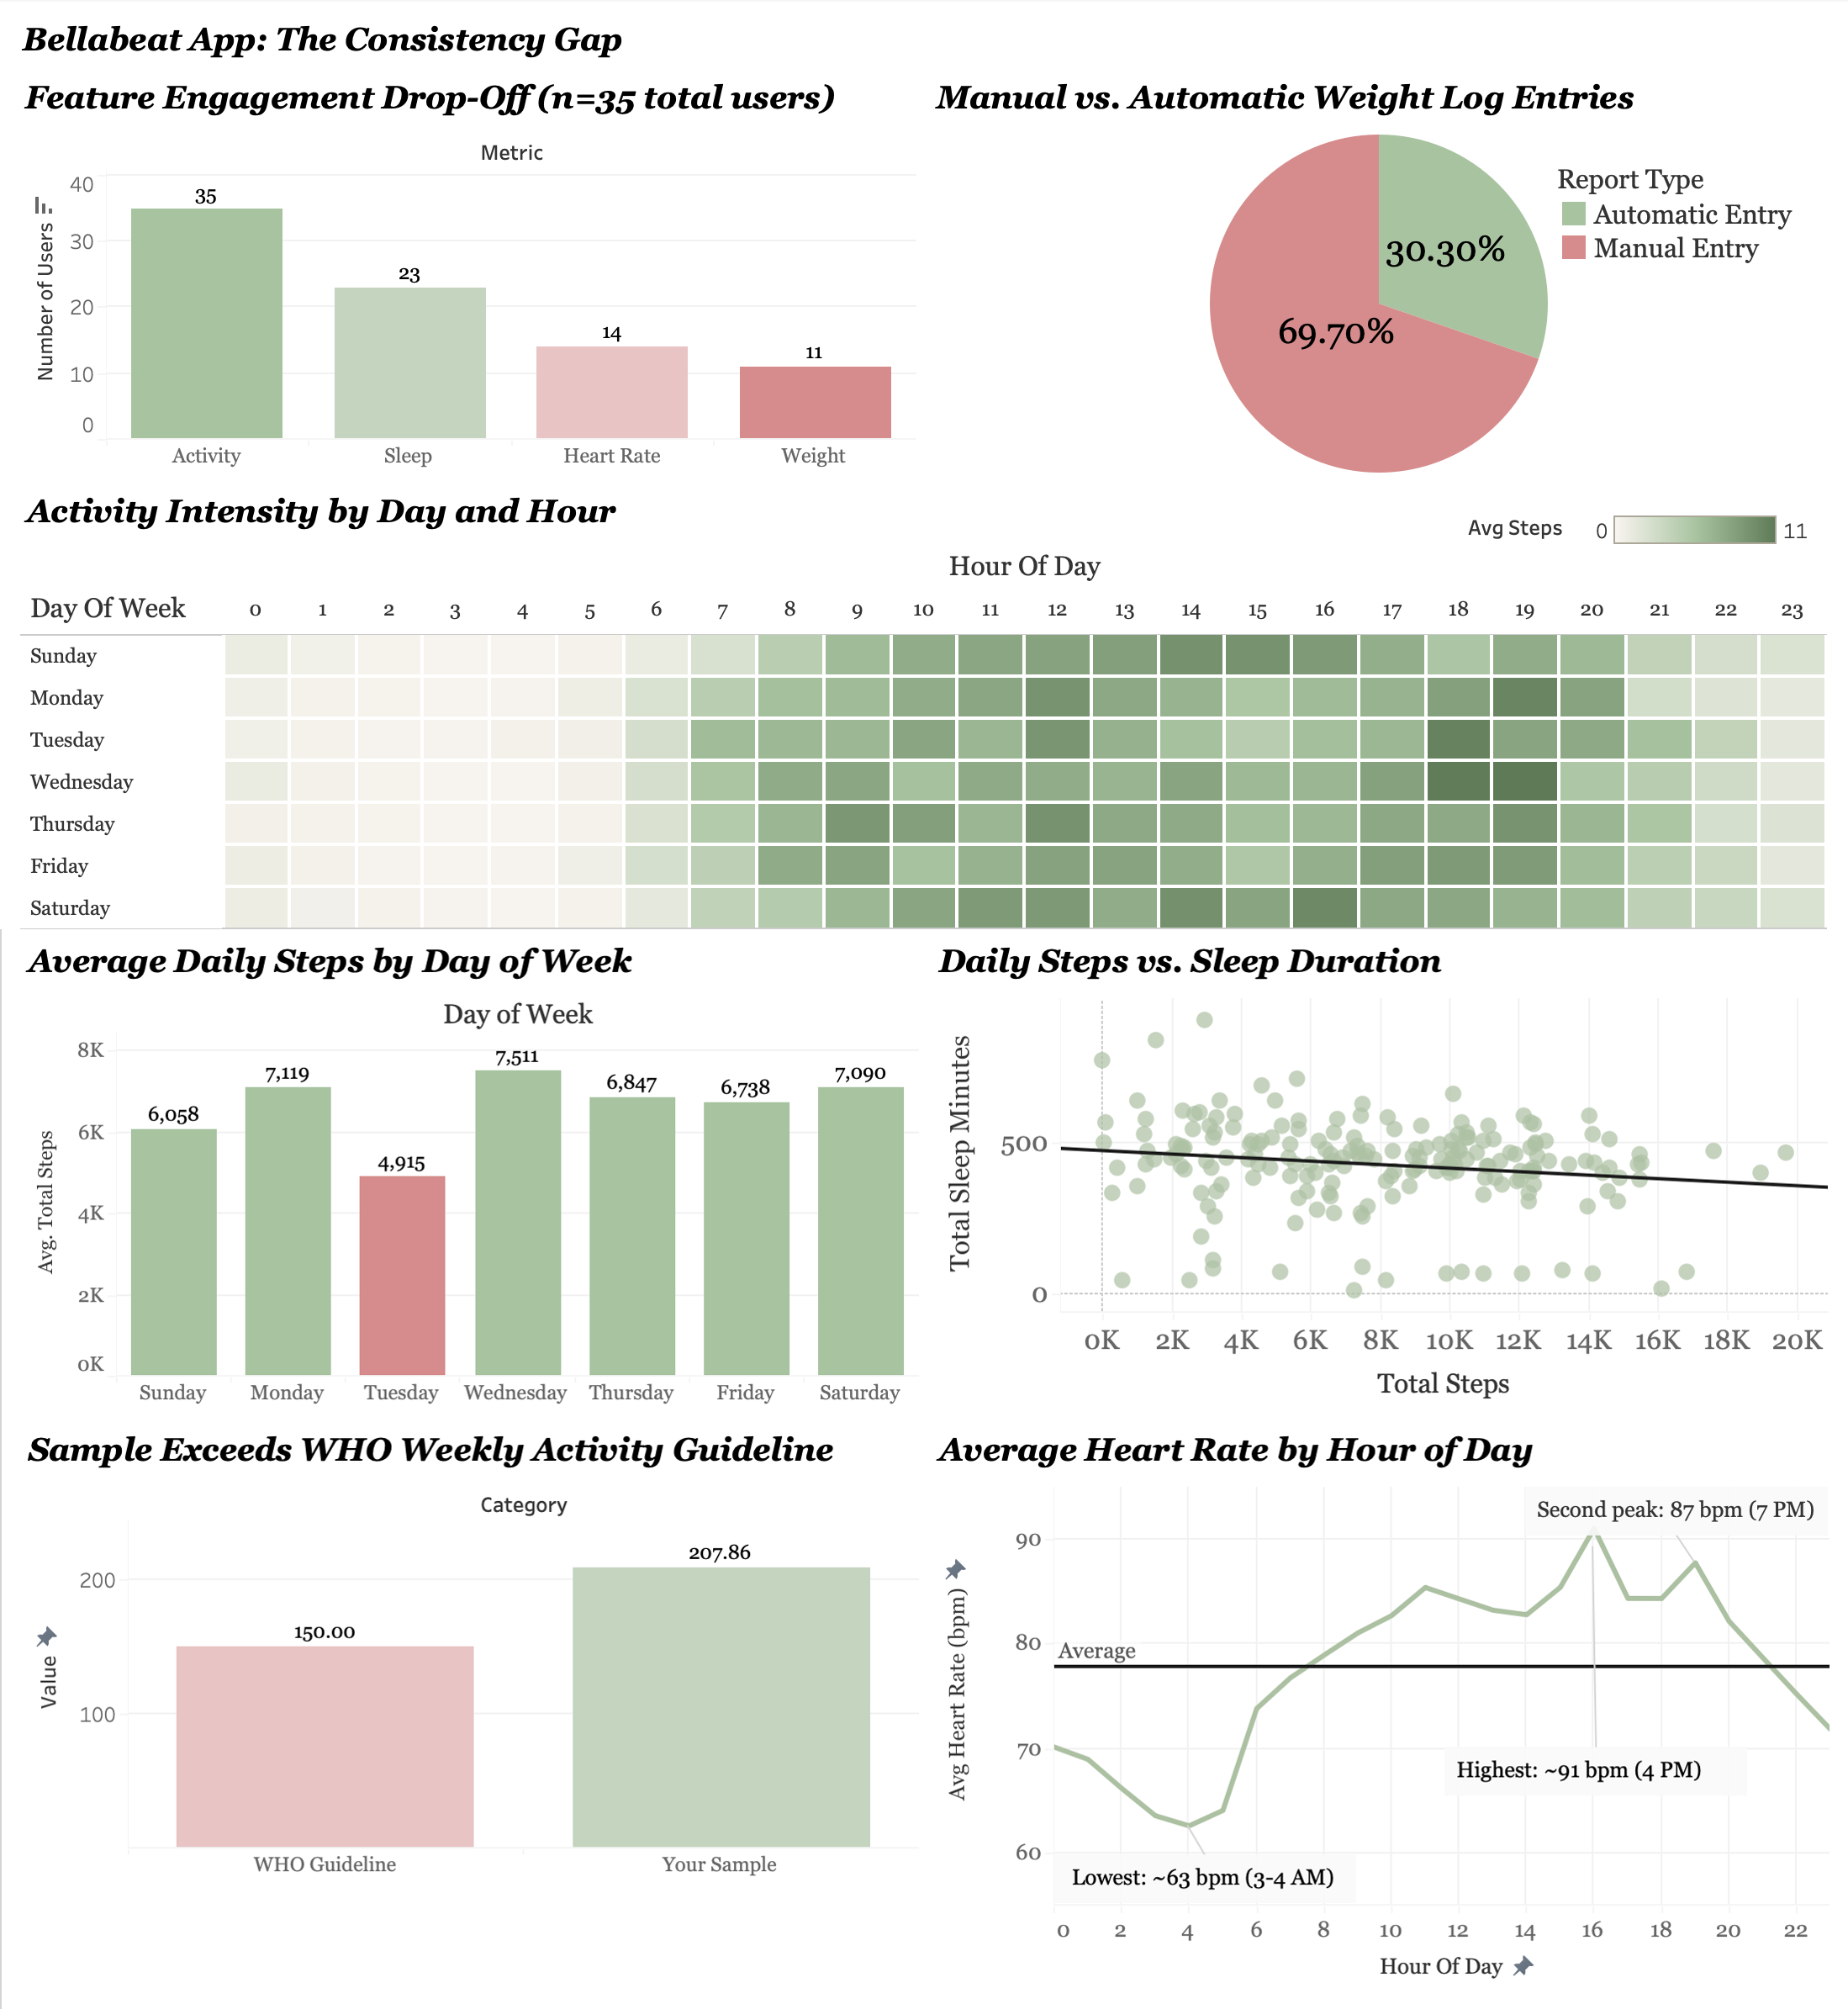

The page's visual inventory and layout, read from the dashboard file:
{"tool":"tableau","page":{"name":"Bellabeat App: The Consistency Gap","canvas":[1600,1200],"ordinal":0},"visuals":[{"type":"title","box":[8,8,1584,30]},{"type":"worksheet","title":"Engagement Gap","mark":"Automatic","rows":["User_Count"],"cols":["Metric"],"box":[8,38,792,246.5]},{"type":"worksheet","title":"Weight Logging","mark":"Pie","box":[800,38,792,246.5]},{"type":"legend","title":"Weight Logging","param":"[federated.1cqbz7g1b9yfwy18mkx0r0k5971a].[none:Report Type:nk]","box":[1392,59,144,60]},{"type":"worksheet","title":"Activity Heatmap","mark":"Square","rows":["day_of_week"],"cols":["hour_of_day"],"box":[8,284.5,1584,271.9]},{"type":"legend","title":"Activity Heatmap","param":"[federated.0j3ccia0iei54c1cqjlfz0zeiikf].[sum:avg_steps:qk]","box":[1410,290,148,45]},{"type":"worksheet","title":"Steps by Day","mark":"Automatic","rows":["TotalSteps"],"cols":["Day_of_Week"],"box":[8,556.4,792,290.4]},{"type":"worksheet","title":"Sleep vs Activity","mark":"Automatic","rows":["Total Sleep Minutes"],"cols":["Total Steps"],"box":[800,556.4,792,317.8]},{"type":"worksheet","title":"Activity vs WHO (World Health Organization)","mark":"Automatic","rows":["Value"],"cols":["Category"],"box":[8,846.8,792,345.2]},{"type":"worksheet","title":"Heart Rate by Hour","mark":"Line","rows":["avg_heart_rate"],"cols":["hour_of_day"],"box":[800,874.2,792,317.8]}]}

Visuals, with their boxes on the page's 1600x1200 design canvas (x1, y1, x2, y2). These are canvas units, not pixel positions in the 1848x2009 screenshot, which may show the page scaled, cropped or inside an application window:
title: [left=8, top=8, right=1592, bottom=38]
"Engagement Gap" worksheet: [left=8, top=38, right=800, bottom=284]
"Weight Logging" worksheet (Pie marks): [left=800, top=38, right=1592, bottom=284]
"Weight Logging" legend: [left=1392, top=59, right=1536, bottom=119]
"Activity Heatmap" worksheet (Square marks): [left=8, top=284, right=1592, bottom=556]
"Activity Heatmap" legend: [left=1410, top=290, right=1558, bottom=335]
"Steps by Day" worksheet: [left=8, top=556, right=800, bottom=847]
"Sleep vs Activity" worksheet: [left=800, top=556, right=1592, bottom=874]
"Activity vs WHO (World Health Organization)" worksheet: [left=8, top=847, right=800, bottom=1192]
"Heart Rate by Hour" worksheet (Line marks): [left=800, top=874, right=1592, bottom=1192]
